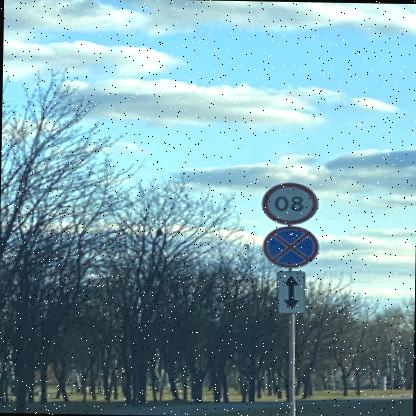speedlimit: (264, 180, 322, 224)
